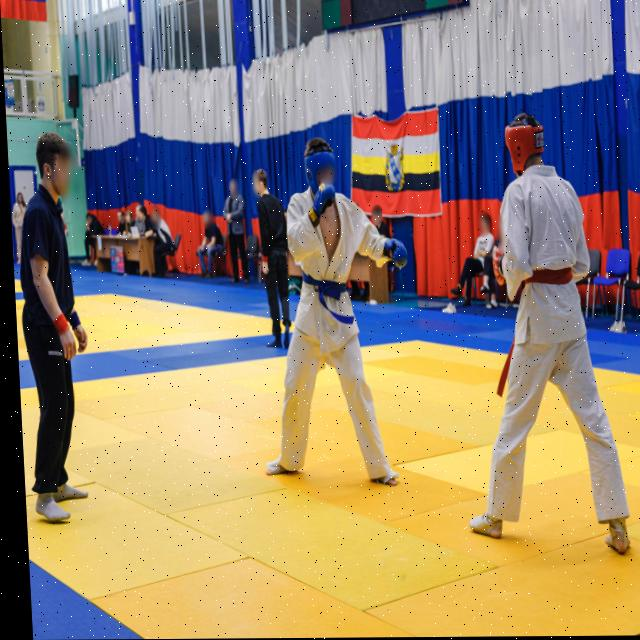Person: (442, 100, 640, 577), (251, 134, 402, 515), (5, 123, 104, 556), (247, 168, 299, 357), (215, 165, 249, 282), (185, 201, 225, 283), (457, 208, 490, 305), (150, 202, 175, 276), (78, 209, 109, 266), (7, 183, 27, 270), (134, 197, 148, 240), (110, 208, 127, 243), (121, 206, 133, 247)
